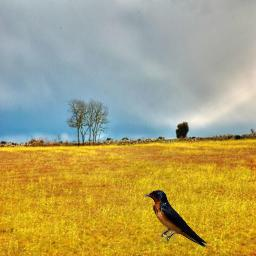Swallow: (144, 190, 207, 248)
